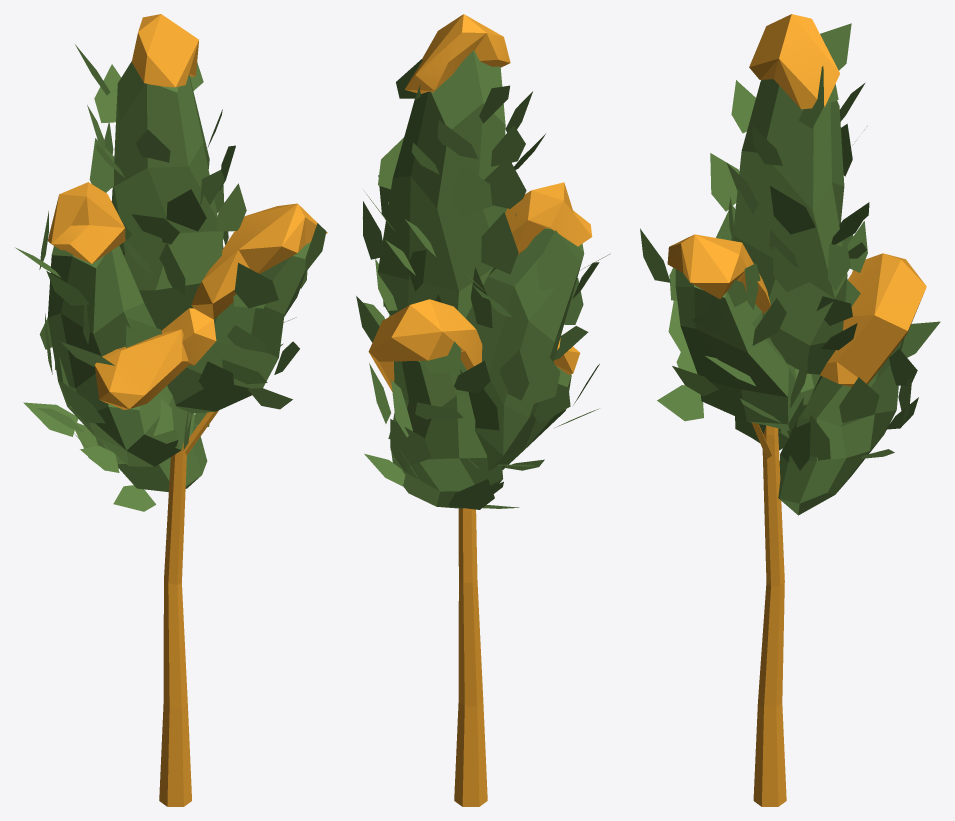
Rendered from SM_Tree_Poplar_Sapling_A_Snow.fbx.
3 views of the same model, side by side, from view 1: azimuth 30°, elevation 25°; view 2: azimuth 150°, elevation 25°; view 3: azimuth 270°, elevation 25° (orthographic). The views are drawn at different scales.
Parts seen in each view (by area): view 1: tree-poplar-sapling-a-snow; view 2: tree-poplar-sapling-a-snow; view 3: tree-poplar-sapling-a-snow.
Boxes of the visible parts, x1=… form: tree-poplar-sapling-a-snow: x1=15, y1=14, x2=327, y2=806; tree-poplar-sapling-a-snow: x1=356, y1=14, x2=610, y2=806; tree-poplar-sapling-a-snow: x1=640, y1=14, x2=940, y2=806.
Bounding box in the file's own units: 0.8616 × 2.45 × 0.8502.
